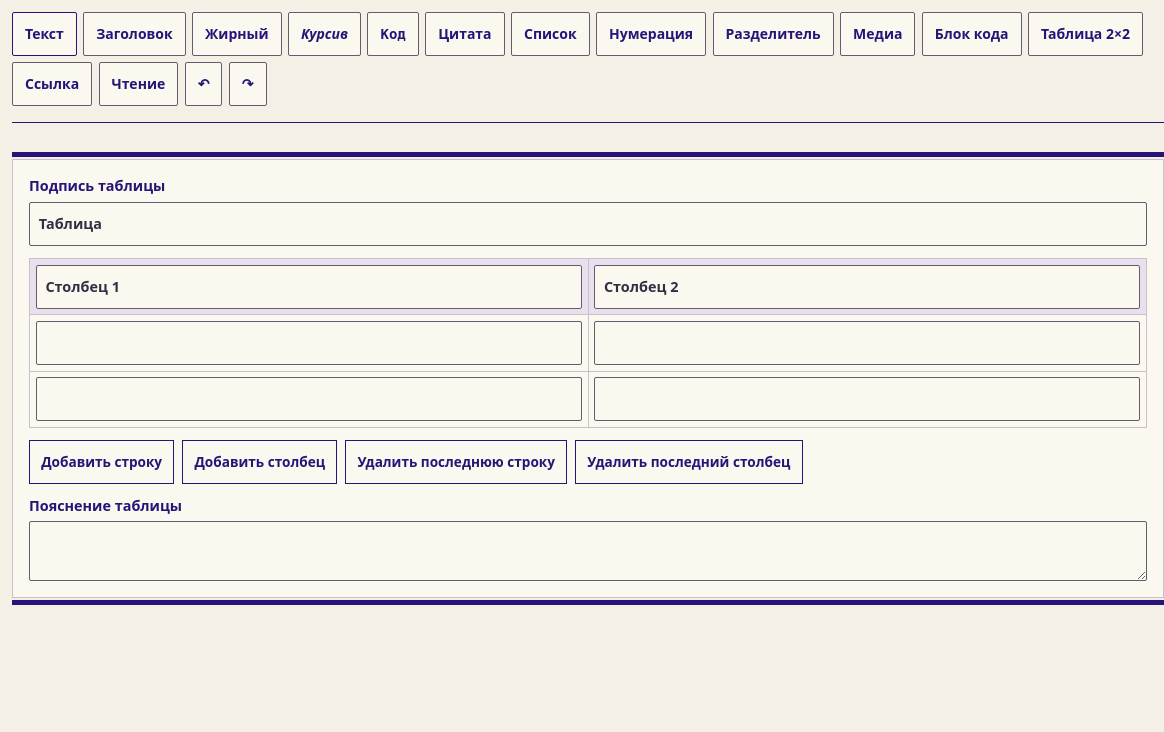
Test: NativeEditorComponent › builds a two-column table through cell controls
The image size is (1164, 732).
Expected: the number of column headings is 2, [30,259,588,315]; [588,259,1146,315]
Replace the text in the field named "Заголовок 1" with "Термин": point(309, 287) [36,265,582,309]
Replace the text in the field named "Заголовок 2" with "Значение": point(867, 287) [594,265,1140,309]
In the field named "Строка 1, столбец 1": point(309, 343) [36,321,582,365], type "Интервал"
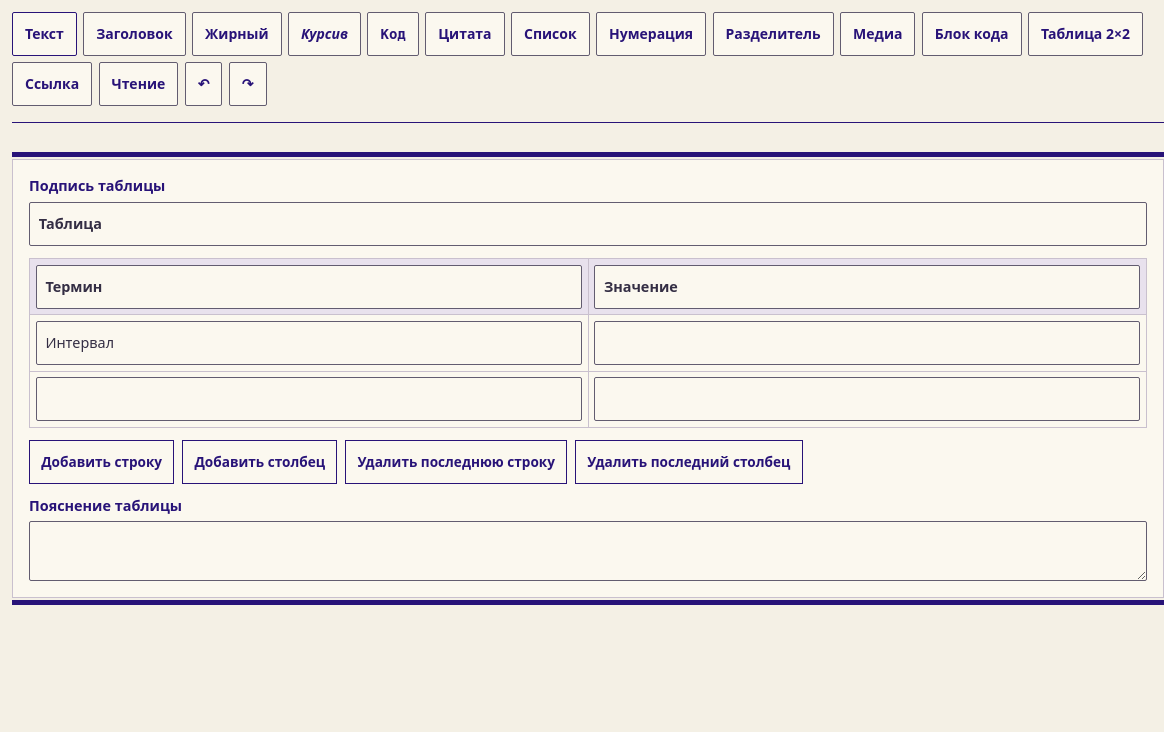
In the field named "Строка 1, столбец 2": point(867, 343) [594,321,1140,365], type "Повторение"
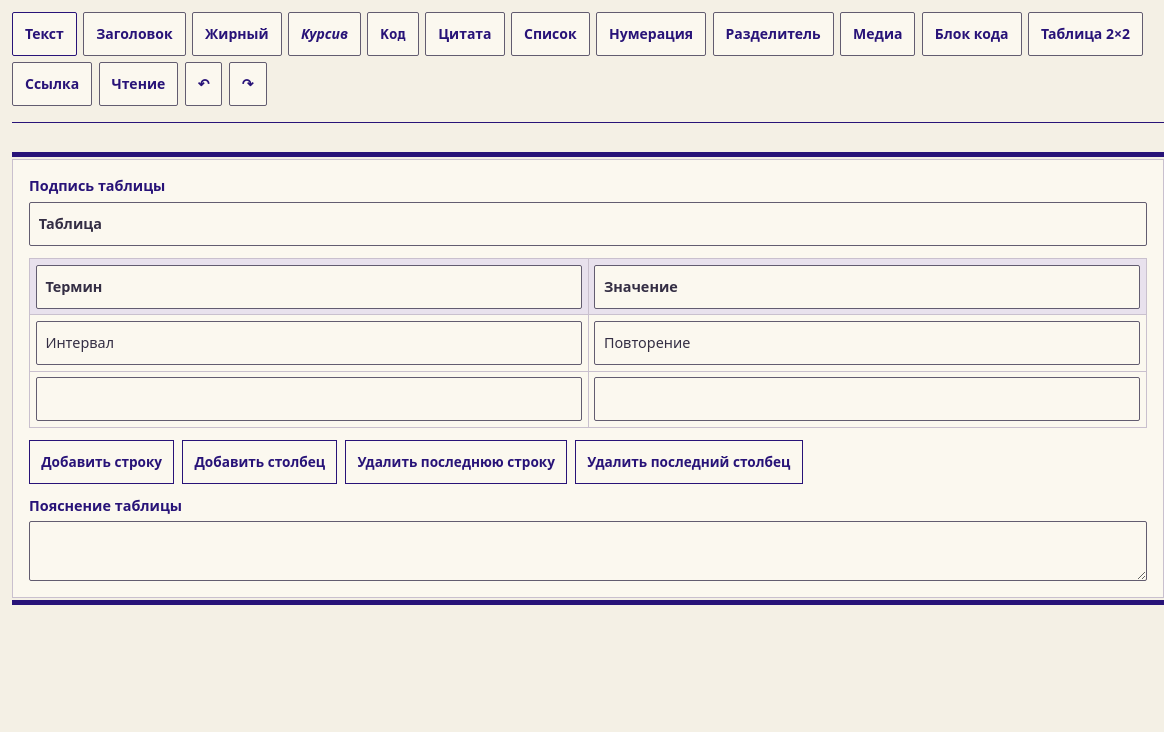
Replace the text in the field labelled "Подпись таблицы" with "План": point(588, 224) [29,202,1147,246]
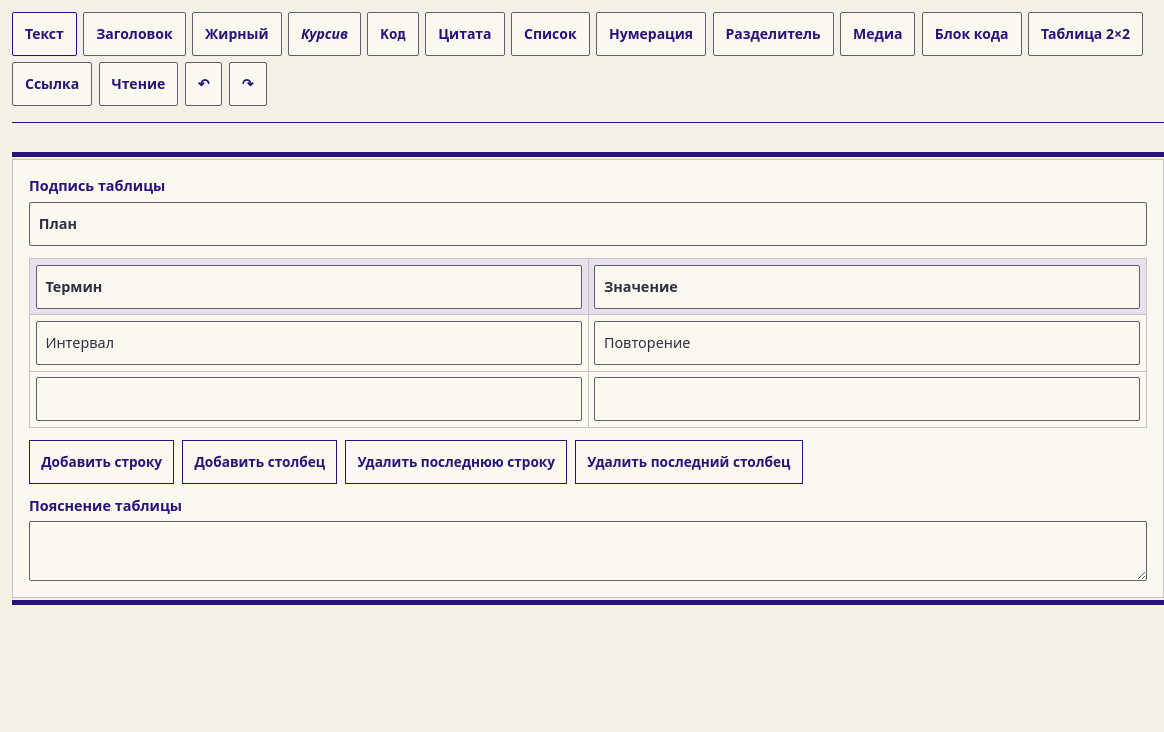
In the text box labelled "Пояснение таблицы": point(588, 551) [29,522,1147,581], type "Краткий план"
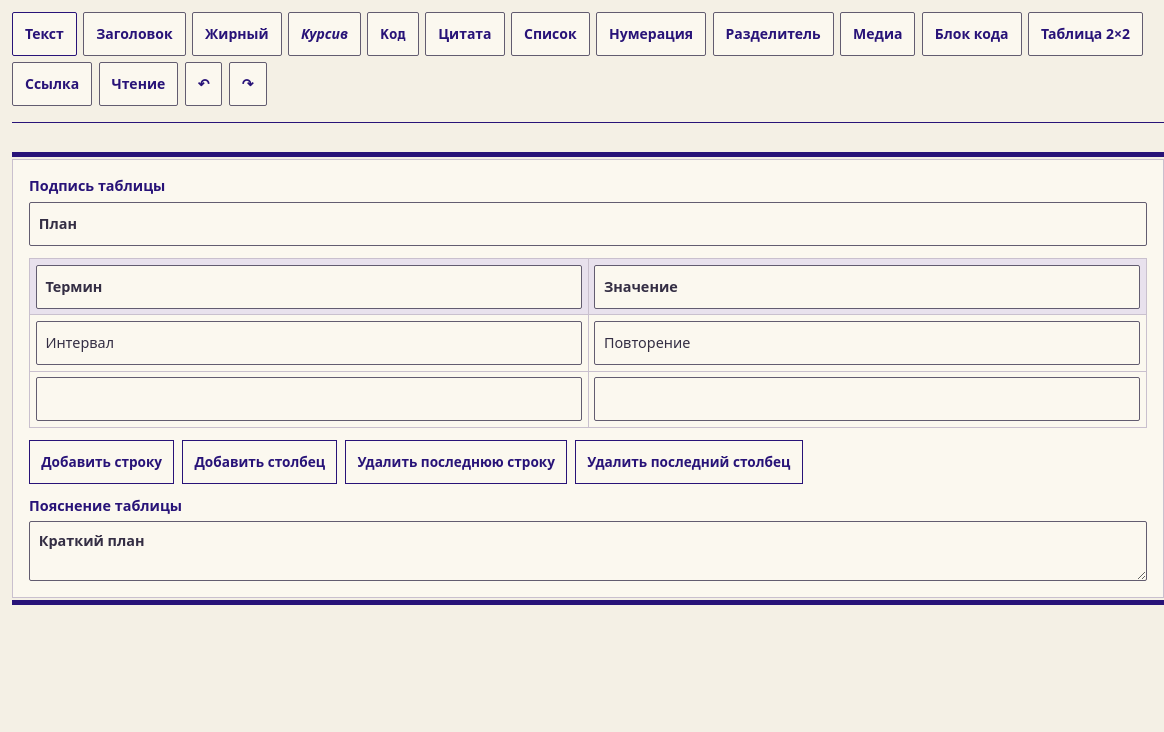
In the field named "Строка 2, столбец 1": point(309, 399) [36,377,582,421], type "Пауза"
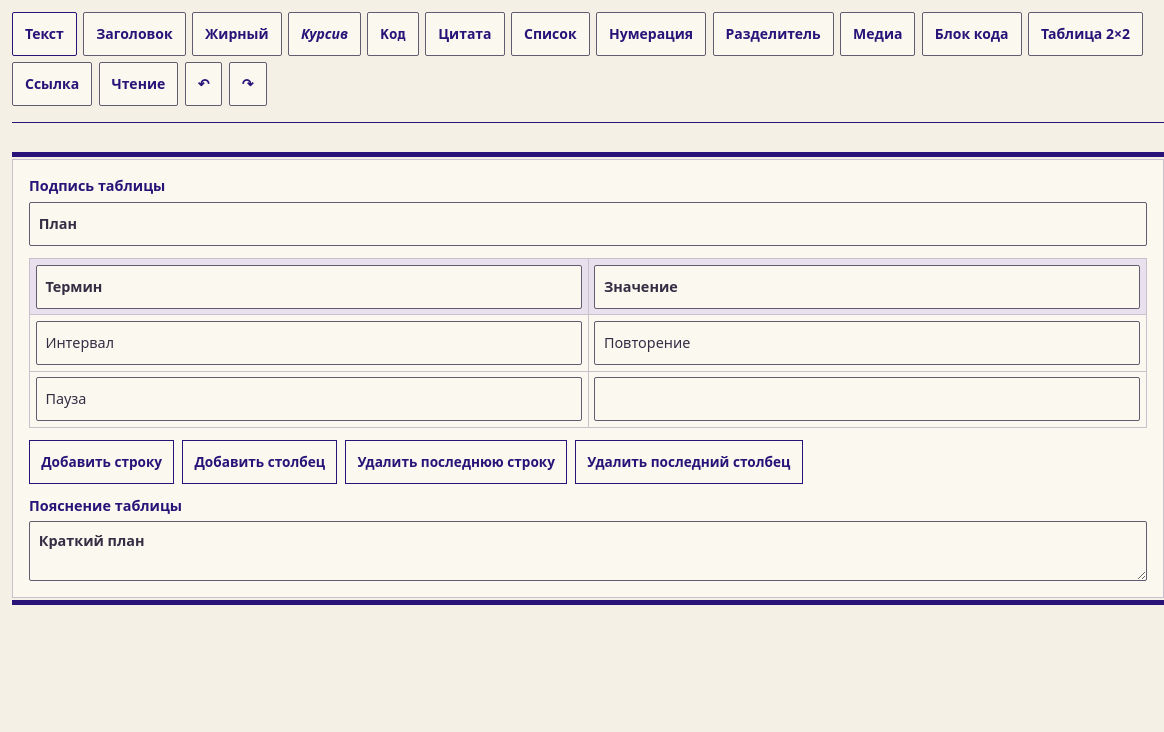
Click the button "Удалить последний столбец": point(689, 462) [575,440,802,484]
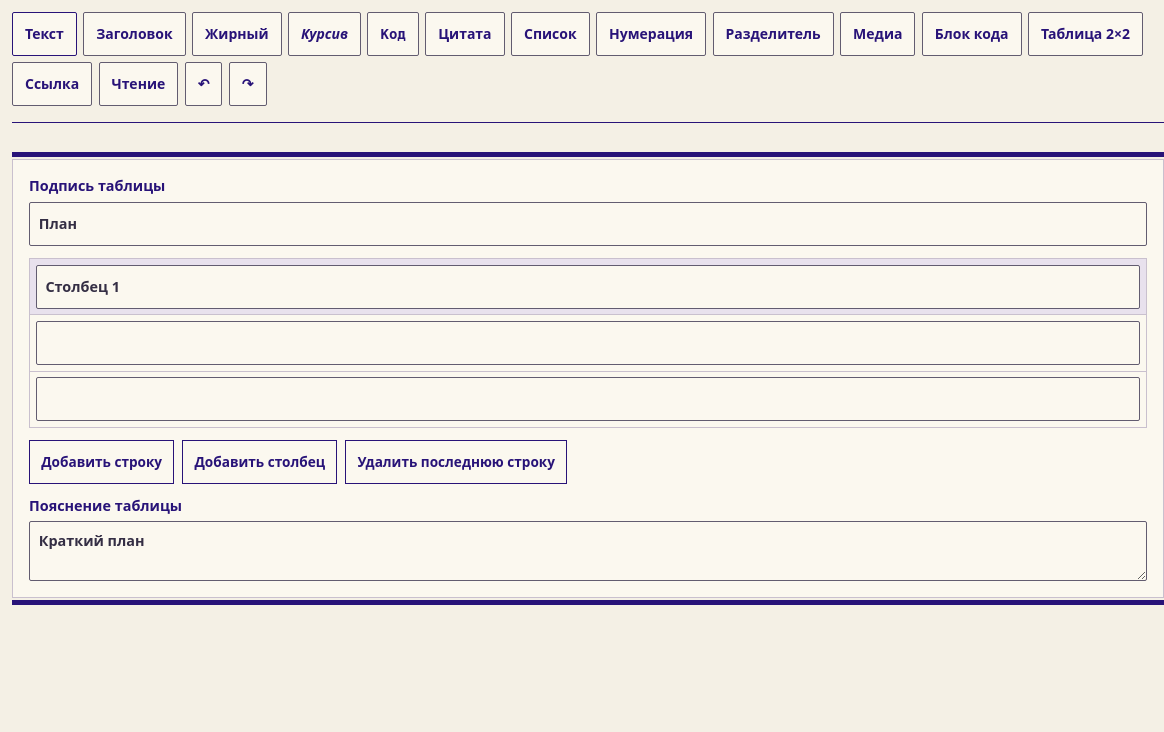
Expected: the number of column headings is 1, [30,259,1146,315]
